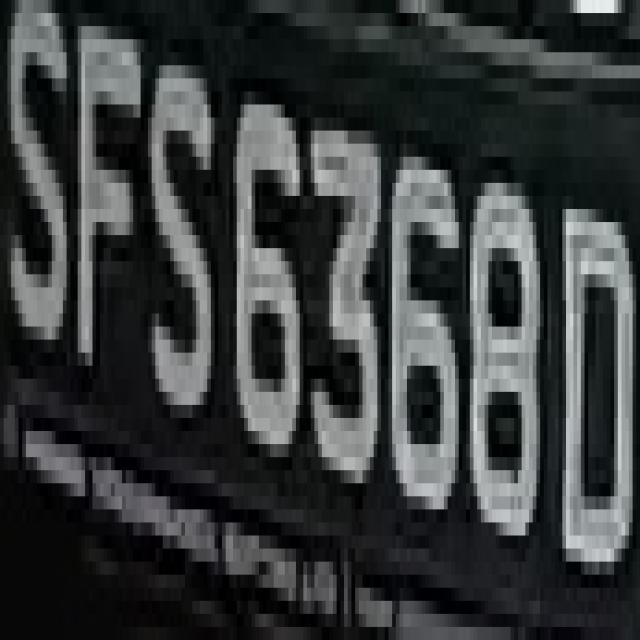3: (300, 78, 381, 510)
6: (381, 118, 470, 536), (222, 66, 303, 510)
8: (462, 131, 552, 548)
D: (555, 157, 640, 601)
F: (70, 26, 148, 431)
S: (148, 39, 218, 418), (11, 13, 74, 353)
